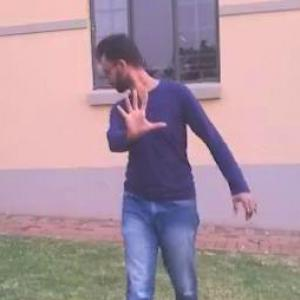follow_hand: (111, 85, 168, 141)
